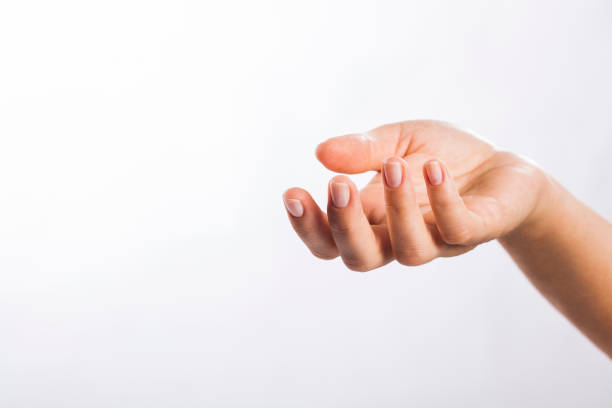hand: (271, 103, 548, 299)
